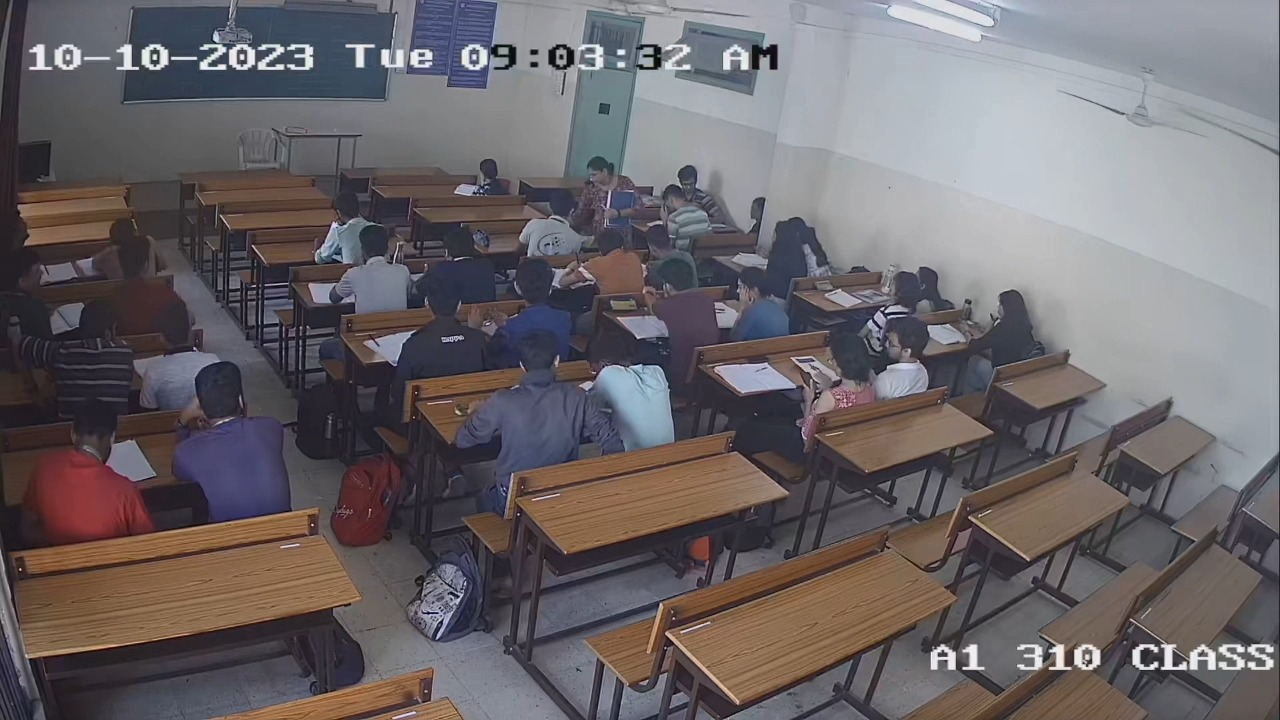cell-phones: (607, 293, 640, 315), (798, 369, 821, 397), (814, 279, 835, 292)
person: (787, 332, 873, 426), (638, 259, 721, 355), (873, 270, 923, 320)
